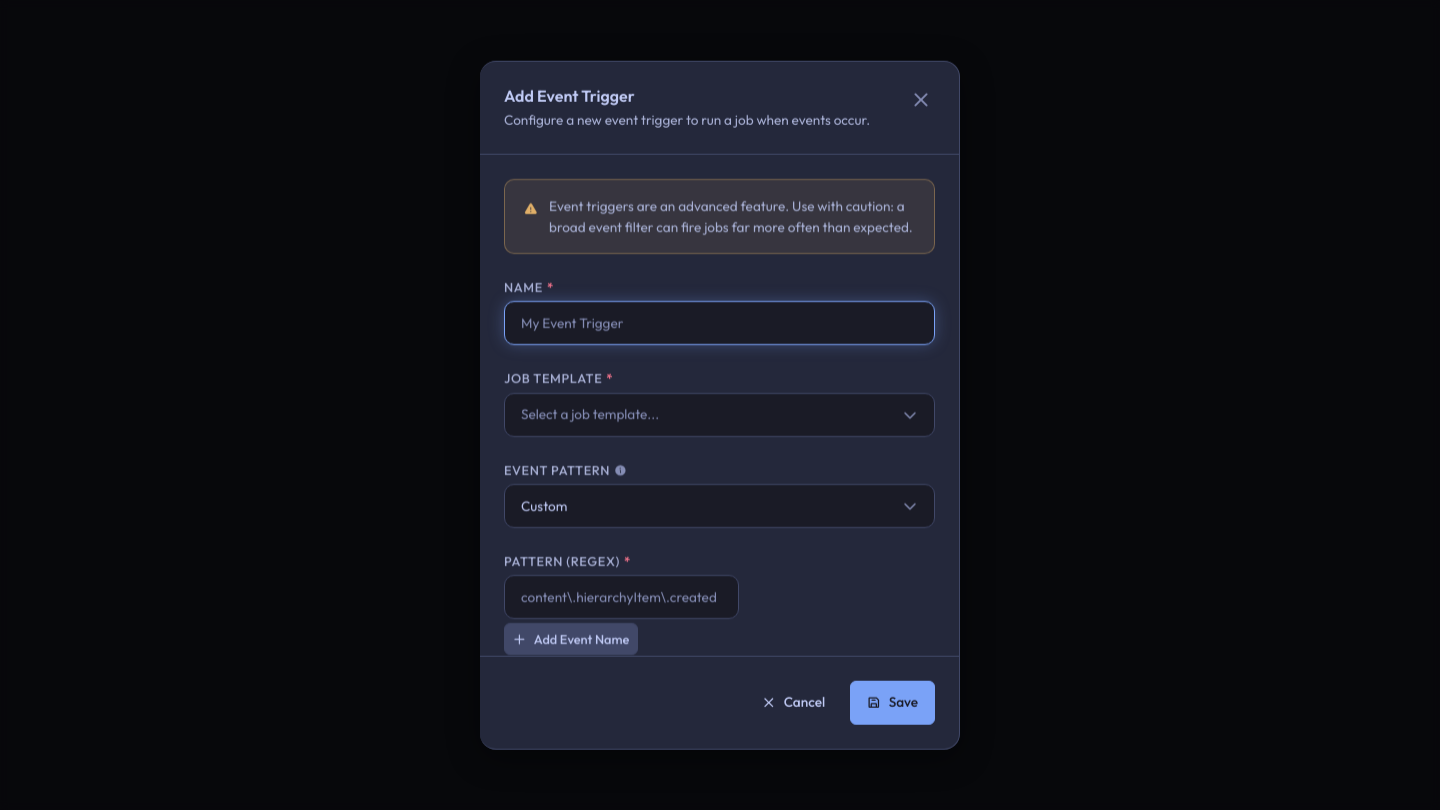
Test: EventTriggerForm - Template selector › shows template options in dropdown
Click the dropdown labelled "Select a job template...": (590, 414) [504, 392, 935, 436]
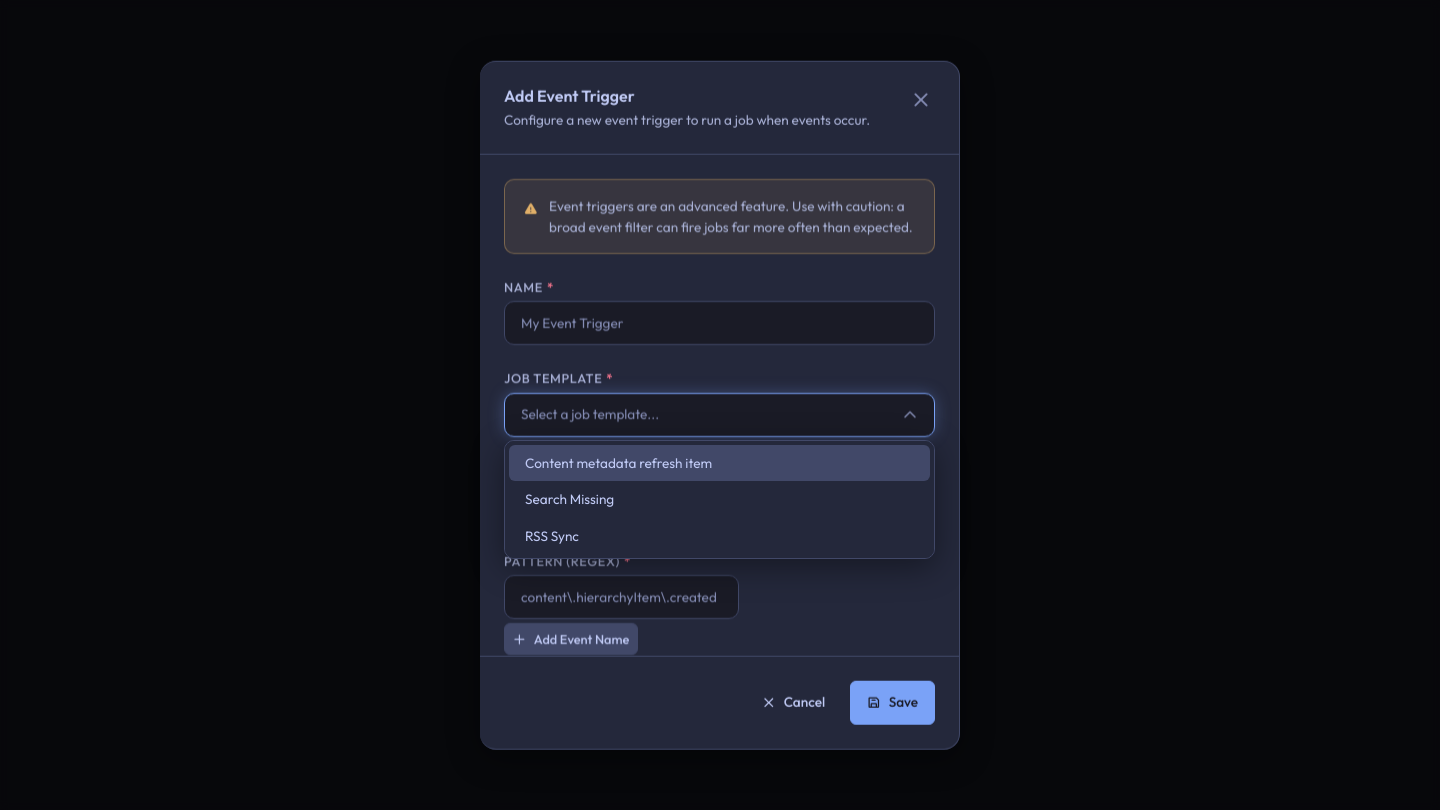
Check: the option "Content metadata refresh item" is shown, box [509, 445, 930, 481]
Check: the option "Search Missing" is shown, box [525, 490, 614, 508]
Check: the option "RSS Sync" is shown, box [525, 527, 579, 545]
